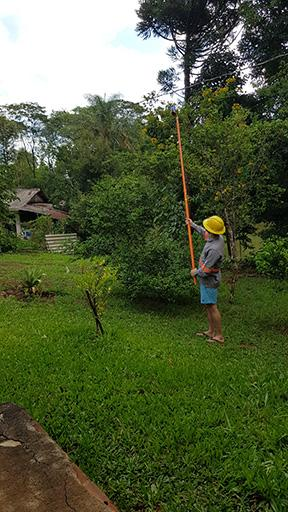Vara_Manobra: (174, 117, 196, 287)
